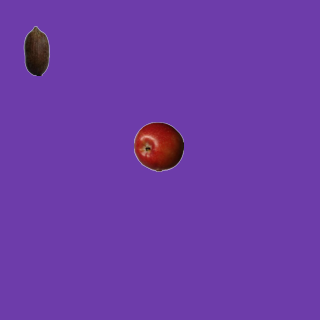Apple Braeburn: (133, 121, 183, 171)
Nut Pecan: (11, 25, 61, 75)
